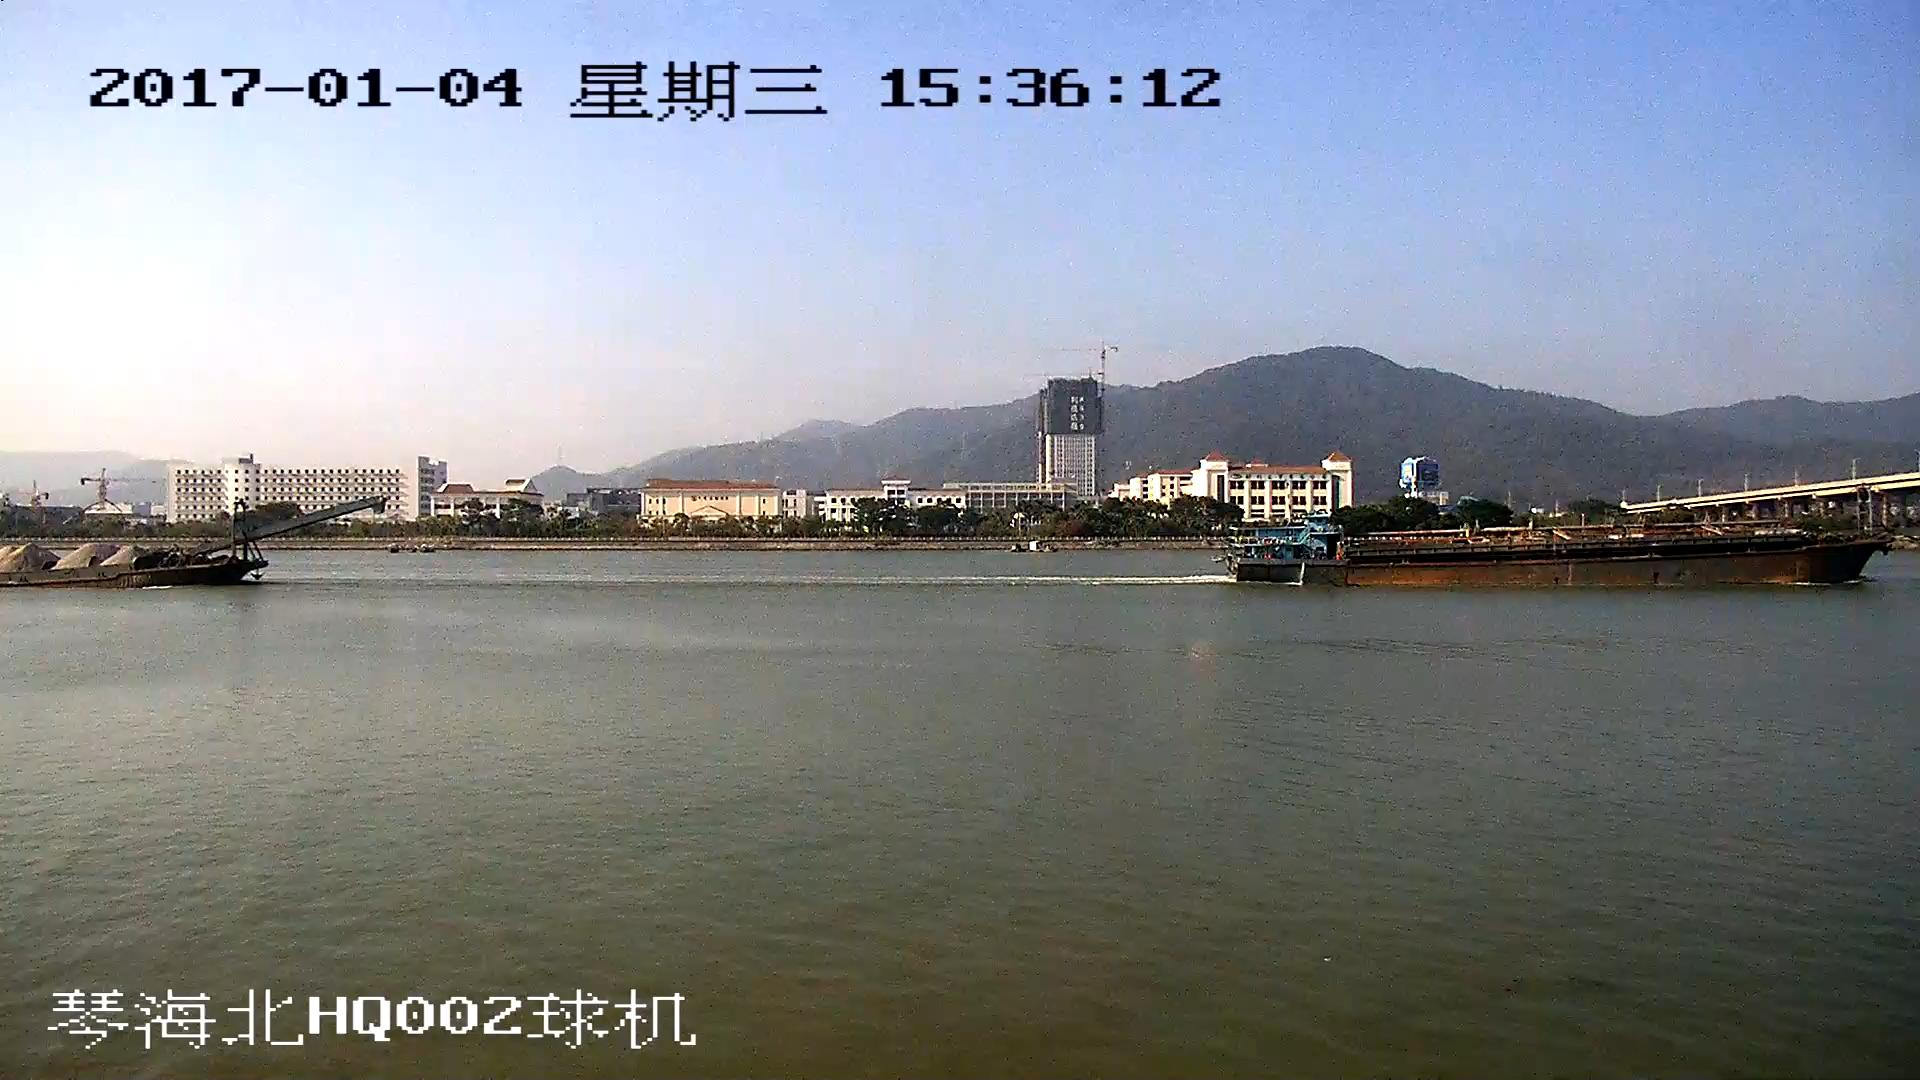bulk cargo carrier: (1227, 516, 1891, 591)
ore carrier: (1, 493, 382, 588)
